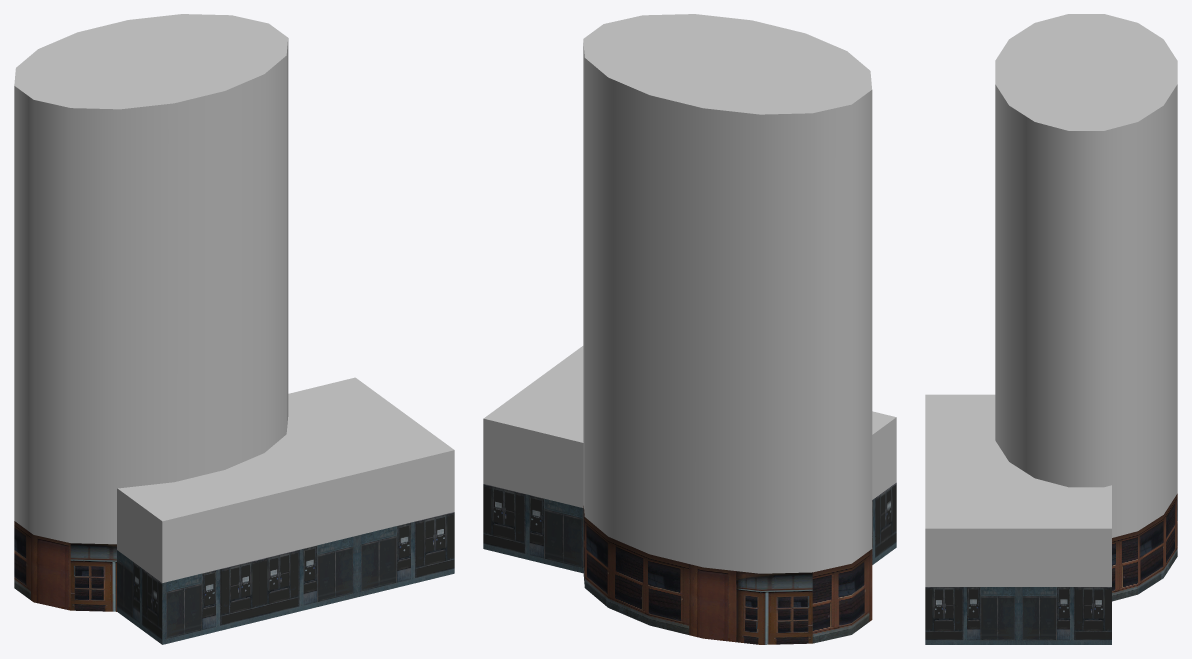
Rendered from NEW building 15.fbx.
The picture shows the model from 3 angles, left to right: view 1: azimuth 30°, elevation 25°; view 2: azimuth 150°, elevation 25°; view 3: azimuth 270°, elevation 25°; orthographic projection. The views are drawn at different scales.
Parts seen in each view (by area): view 1: Object_6.004; view 2: Object_6.004; view 3: Object_6.004.
Part boxes in pixels (x1,y1,x2,y2): Object_6.004: (14, 14, 454, 644); Object_6.004: (483, 14, 896, 644); Object_6.004: (925, 14, 1177, 644).
Size of the model in its own units: 310 by 431 by 208.
